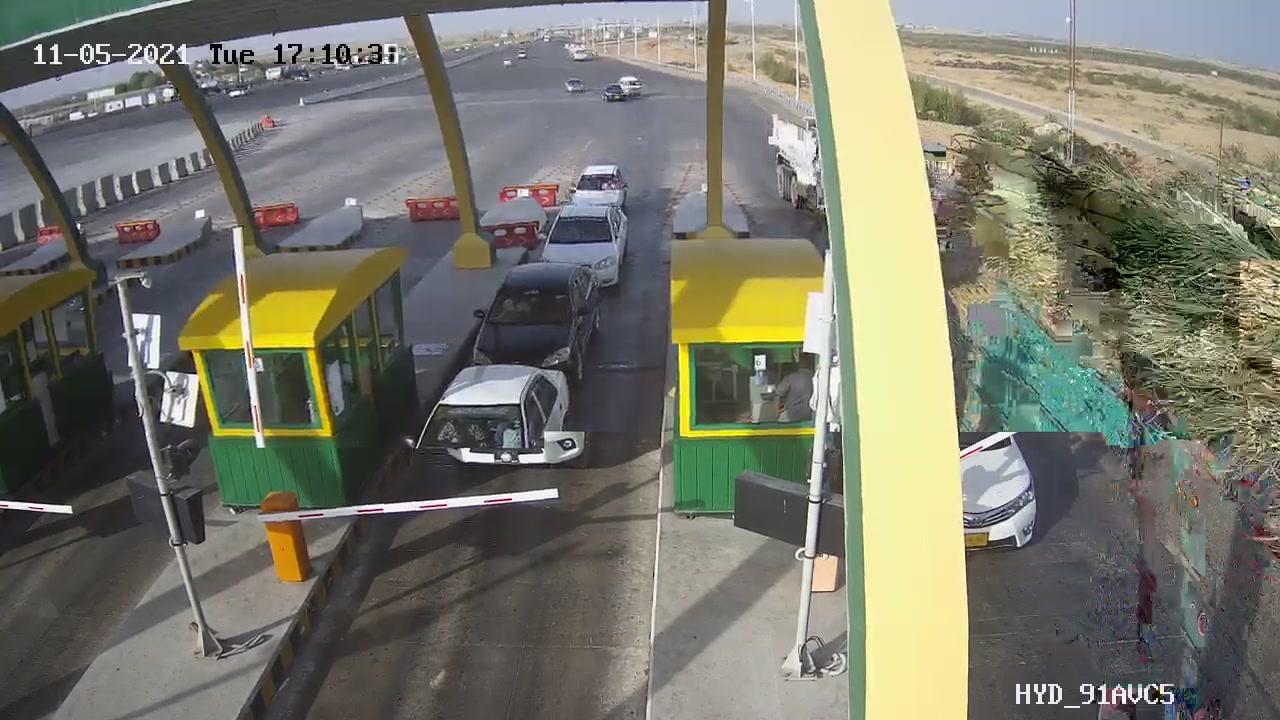F1: (446, 246, 620, 388)
